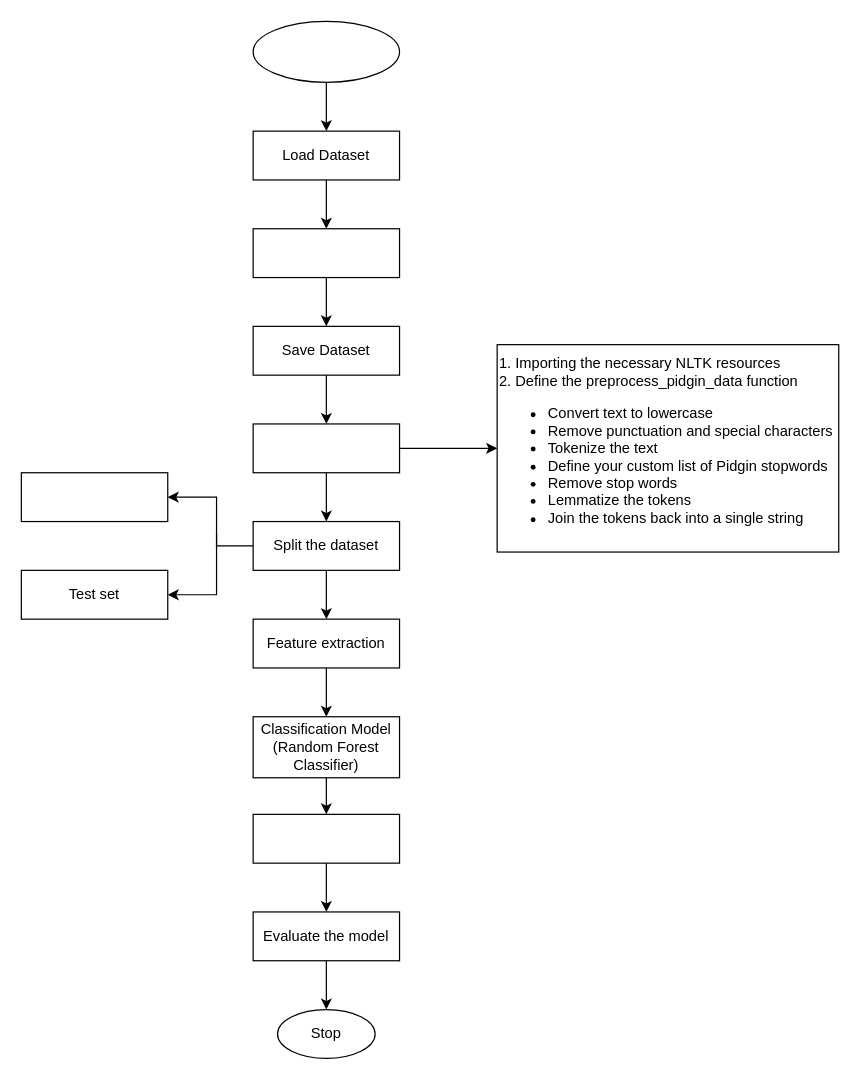
This 860x1080 diagram has some shape labels left out. Each missing label, with the box of its shape:
Data wrangling and Cleaning: (252, 228, 400, 278)
Load and preprocess the data: (252, 423, 400, 473)
Start: (252, 20, 400, 82)
Train set: (20, 472, 168, 522)
Train the model: (252, 813, 400, 863)
